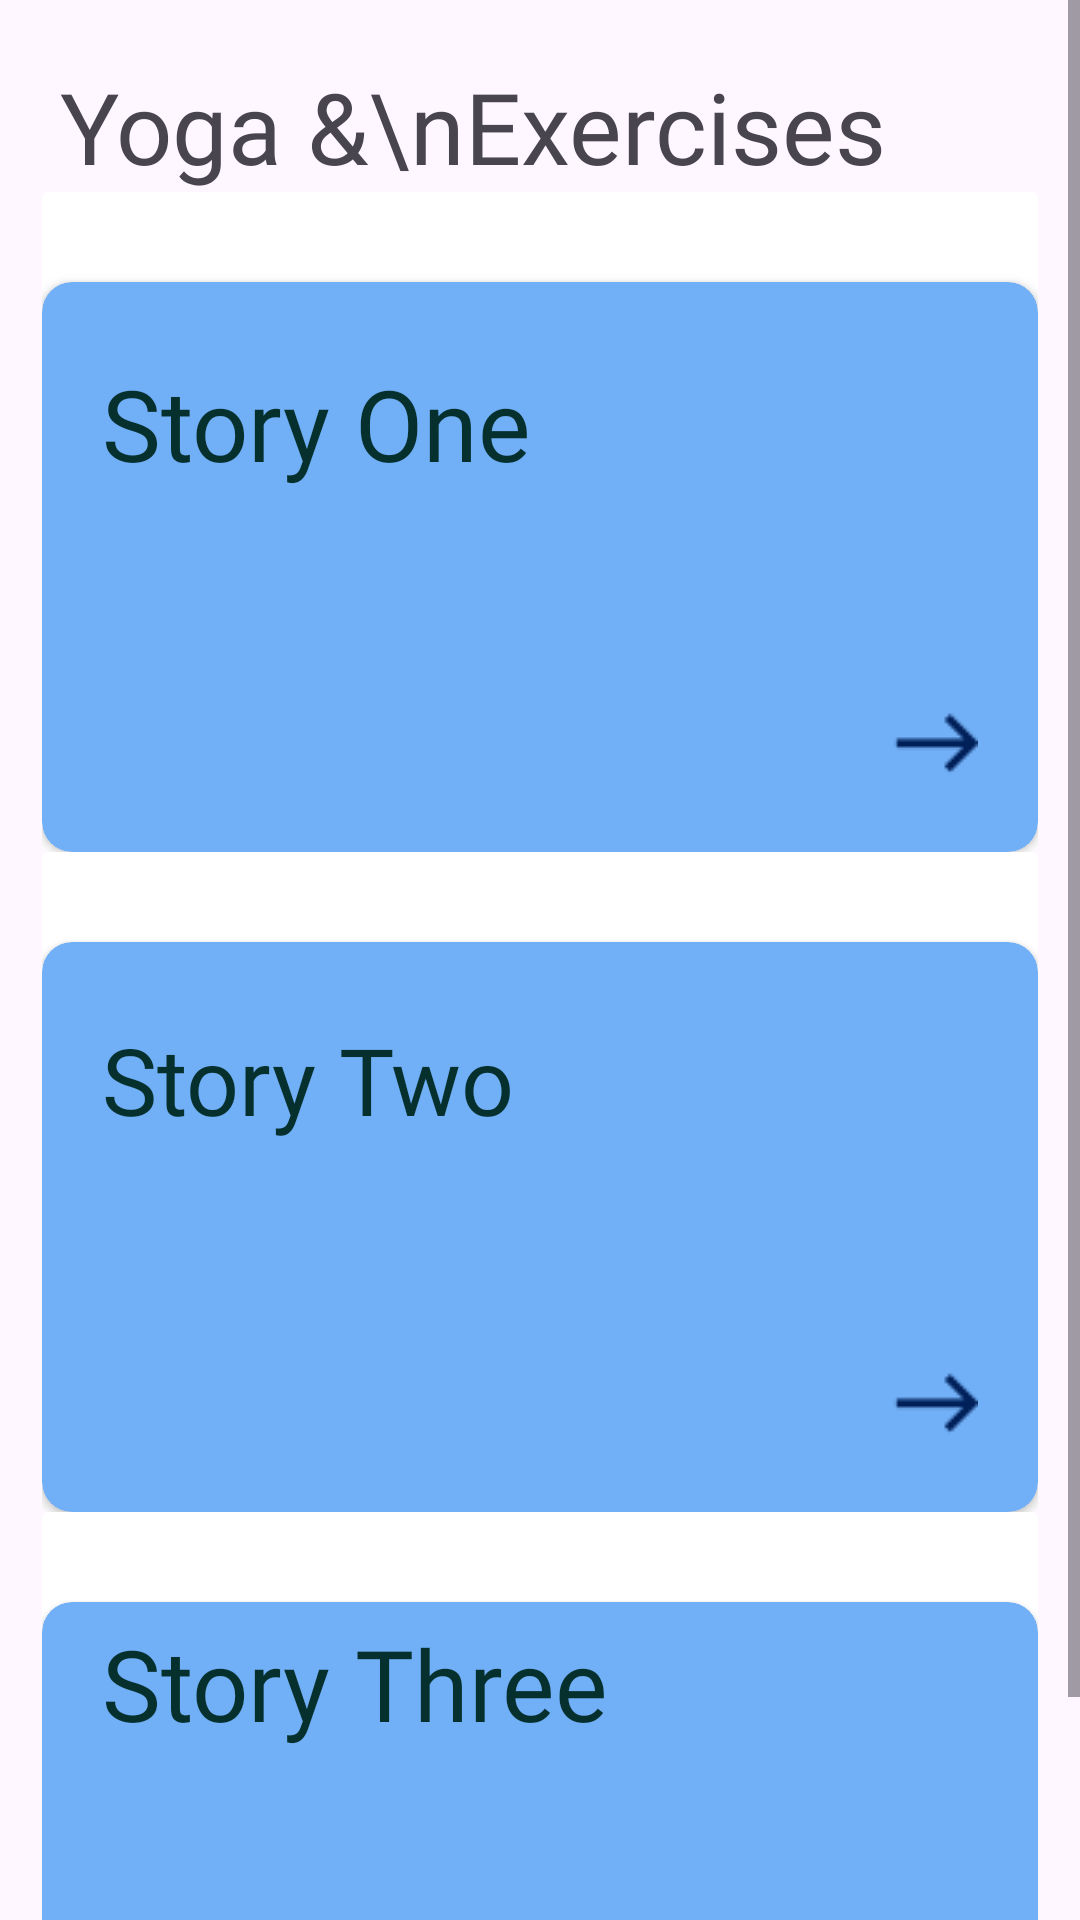

Screen size 1080x1920. Icon name, then its box in pixels as [x1=x1, y1=y1, x2=x2, y2=y2]:
east: [x1=896, y1=713, x2=978, y2=772], [x1=896, y1=1373, x2=978, y2=1432]
